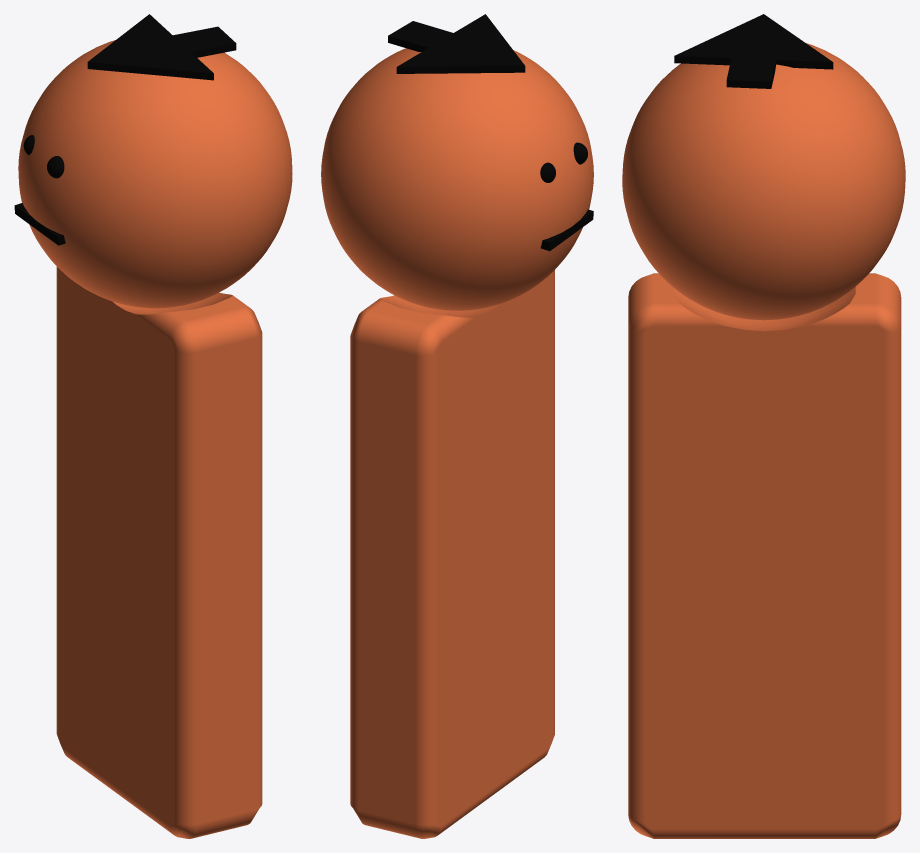
The model's file is beige_poker.obj.
The picture shows the model from 3 angles, left to right: view 1: azimuth 30°, elevation 25°; view 2: azimuth 150°, elevation 25°; view 3: azimuth 270°, elevation 25°; orthographic projection. The views are drawn at different scales.
Parts seen in each view (by area): view 1: 1_Curve.002_Curve.002, 5.002_Curve.002_Curve.002; view 2: 1_Curve.002_Curve.002, 5.002_Curve.002_Curve.002; view 3: 1_Curve.002_Curve.002, 5.002_Curve.002_Curve.002.
Part boxes in pixels (x1=…): 1_Curve.002_Curve.002: x1=18, y1=40, x2=292, y2=838; 5.002_Curve.002_Curve.002: x1=14, y1=14, x2=236, y2=245; 1_Curve.002_Curve.002: x1=321, y1=48, x2=593, y2=838; 5.002_Curve.002_Curve.002: x1=388, y1=14, x2=593, y2=251; 1_Curve.002_Curve.002: x1=622, y1=43, x2=905, y2=838; 5.002_Curve.002_Curve.002: x1=674, y1=14, x2=833, y2=88.
Size of the model in its own units: 0.1662 by 0.4993 by 0.1661.
